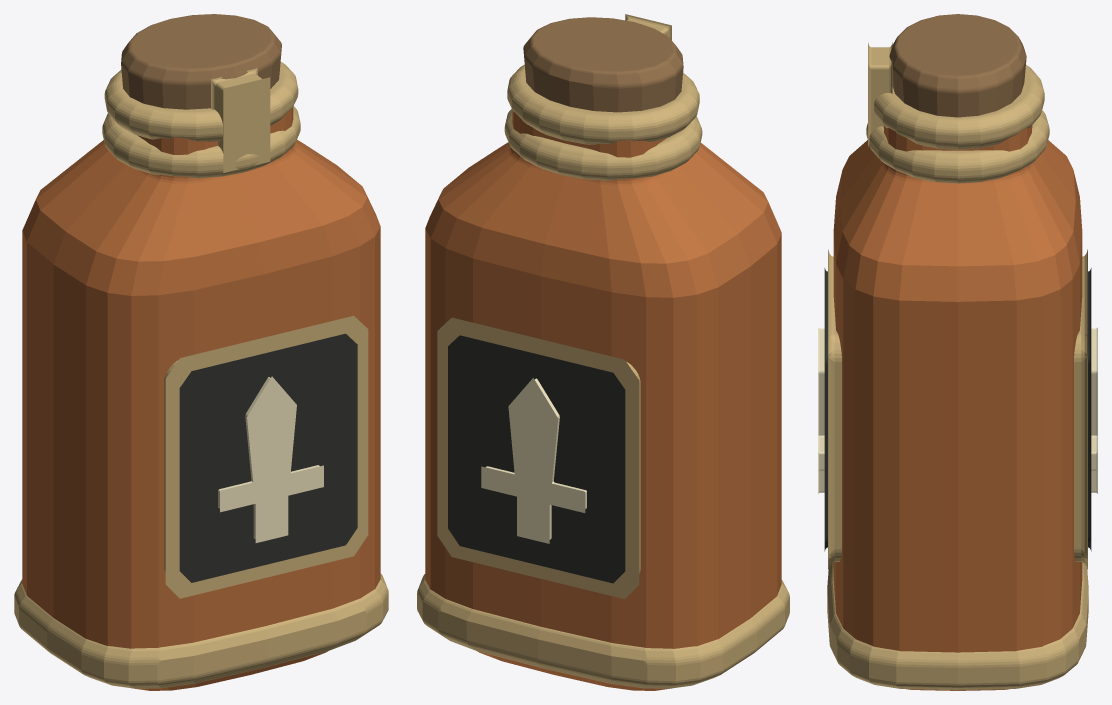
Rendered from elixir_might.glb.
3 renders of one model, left to right at view 1: azimuth 30°, elevation 25°; view 2: azimuth 150°, elevation 25°; view 3: azimuth 270°, elevation 25°, orthographic.
Visible parts, largest first — view 1: elixir_might; view 2: elixir_might; view 3: elixir_might.
Part boxes in pixels (bbox=[...]): elixir_might: bbox=[14, 14, 388, 690]; elixir_might: bbox=[417, 14, 789, 690]; elixir_might: bbox=[818, 14, 1097, 690].
Bounding box in the file's own units: 0.432 × 0.8 × 0.342.
